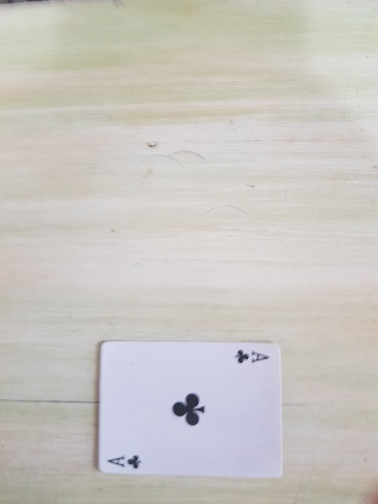ace: (96, 339, 284, 478)
